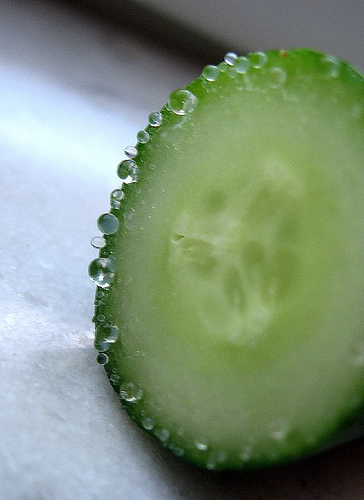cucumber: (88, 45, 362, 472)
